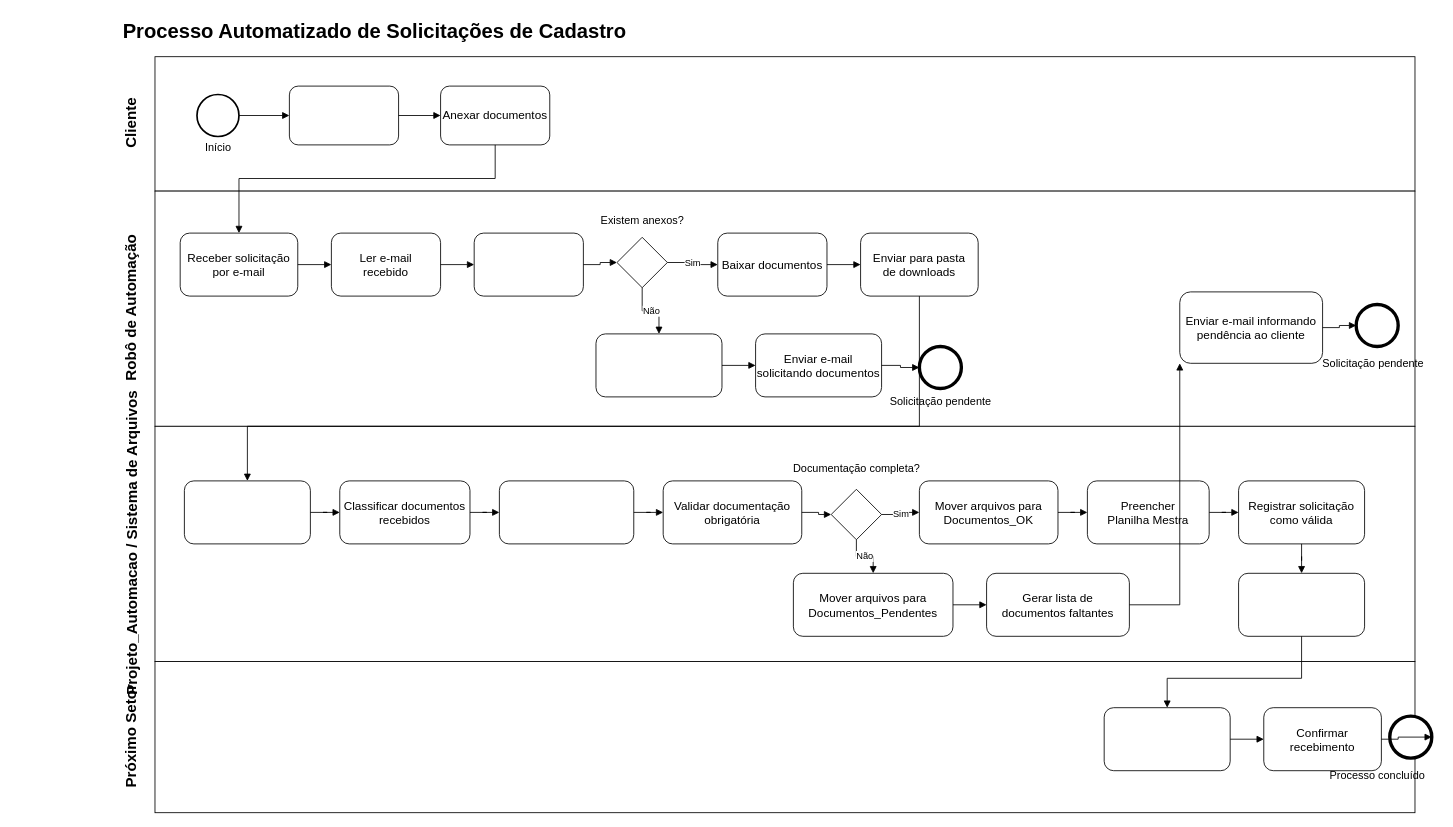
Image size: 1453x827. Some labels were removed from this diagram. The shapes that lost their labels are listed below. From the top down, each one's centre as x and y in pixels, then its label:
At [344,115]: "Enviar solicitação por e-mail".
At [528,264]: "Identificar anexos".
At [658,365]: "Registrar ausência de anexos".
At [247,512]: "Salvar arquivos em downloads".
At [566,512]: "Extrair dados da ficha de cadastro".
At [1301,604]: "Encaminhar ao Próximo Setor".
At [1166,739]: "Receber solicitação válida".
